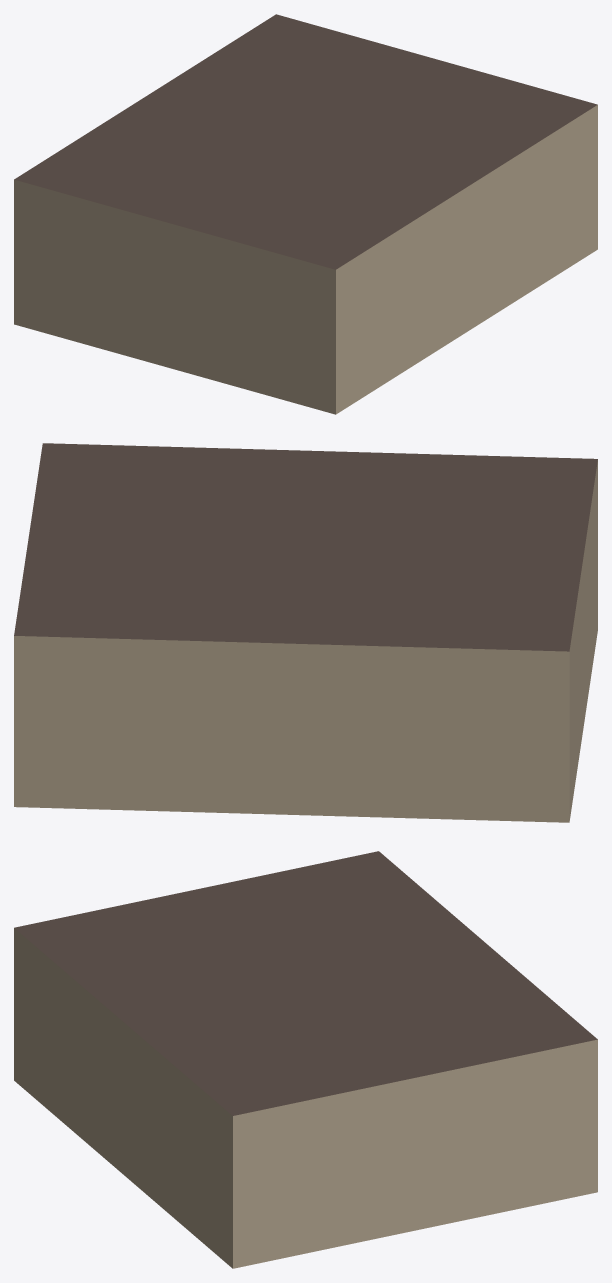
3 renders of one model, top to bottom at view 1: azimuth 30°, elevation 25°; view 2: azimuth 150°, elevation 25°; view 3: azimuth 270°, elevation 25°, orthographic. The views are drawn at different scales.
Parts seen in each view (by area): view 1: HP-w369342483; view 2: HP-w369342483; view 3: HP-w369342483.
Part boxes in pixels (x1,y1,x2,y2): HP-w369342483: (14, 14, 597, 414); HP-w369342483: (14, 443, 597, 822); HP-w369342483: (14, 851, 597, 1268).
Size of the model in its own units: 33.47 by 9 by 31.18.
